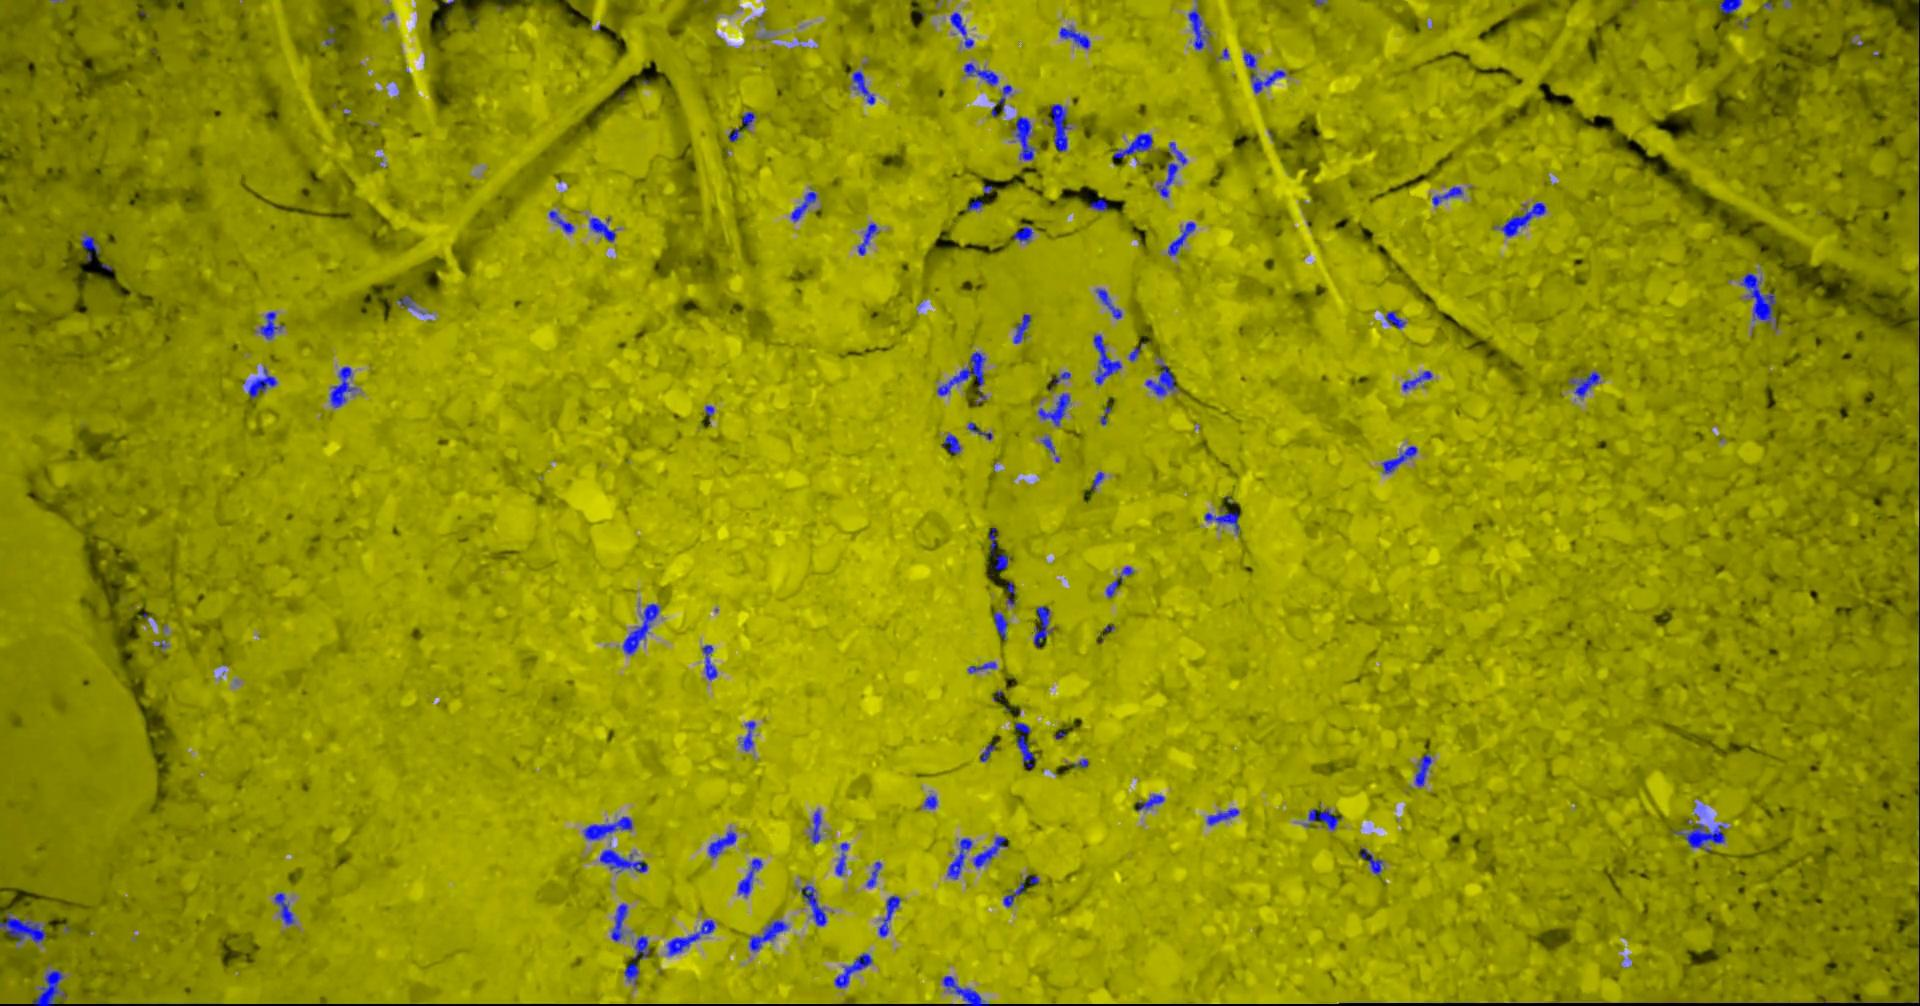ant: (936, 351, 985, 404), (622, 603, 659, 654), (1740, 273, 1775, 323), (665, 920, 714, 955), (1157, 141, 1186, 197), (1500, 202, 1545, 236), (1092, 334, 1121, 384), (0, 911, 44, 942), (942, 976, 989, 1005), (834, 953, 871, 987), (1672, 823, 1724, 847), (748, 920, 787, 951), (30, 970, 66, 1005), (623, 935, 649, 982), (583, 815, 631, 840), (599, 848, 648, 873), (971, 836, 1006, 868), (329, 366, 356, 406), (946, 837, 971, 879), (1037, 392, 1069, 426), (800, 884, 825, 925), (1050, 103, 1070, 151), (1145, 365, 1176, 396), (737, 857, 762, 895), (1167, 221, 1195, 255), (1382, 445, 1416, 473), (1112, 133, 1152, 158), (877, 895, 900, 936), (949, 11, 973, 47), (1250, 69, 1285, 93), (1189, 8, 1209, 50), (1105, 567, 1133, 597), (1304, 807, 1341, 829), (1015, 116, 1034, 159), (248, 368, 276, 398), (790, 191, 817, 221), (1015, 721, 1032, 767), (1032, 605, 1051, 647), (963, 62, 997, 85), (851, 70, 874, 104), (709, 829, 737, 857), (1095, 288, 1121, 318), (1570, 371, 1599, 398), (1204, 511, 1239, 532), (1059, 27, 1090, 48), (857, 224, 877, 255), (1401, 370, 1432, 390), (274, 892, 295, 923), (589, 217, 615, 241), (259, 311, 282, 338), (611, 903, 627, 940), (1431, 185, 1462, 205), (1360, 847, 1382, 874), (1206, 808, 1238, 826), (549, 210, 573, 232), (1415, 753, 1431, 786), (701, 644, 716, 680), (1003, 882, 1023, 907), (1013, 314, 1030, 343), (1137, 794, 1164, 810), (80, 235, 98, 260), (836, 842, 848, 875), (968, 422, 990, 439), (993, 611, 1007, 639), (742, 721, 756, 749), (866, 861, 881, 887), (997, 84, 1011, 111), (941, 434, 960, 453), (968, 661, 996, 673), (1384, 311, 1404, 328), (810, 810, 820, 843), (1012, 226, 1032, 241), (1719, 0, 1741, 13), (979, 743, 994, 761), (1090, 471, 1103, 490), (1050, 371, 1070, 384), (742, 111, 754, 130), (993, 553, 1007, 569), (1243, 51, 1256, 69), (1041, 436, 1054, 453), (988, 527, 996, 555), (397, 295, 414, 307), (1090, 198, 1107, 210), (923, 794, 937, 808), (966, 199, 983, 211), (728, 128, 738, 141)
